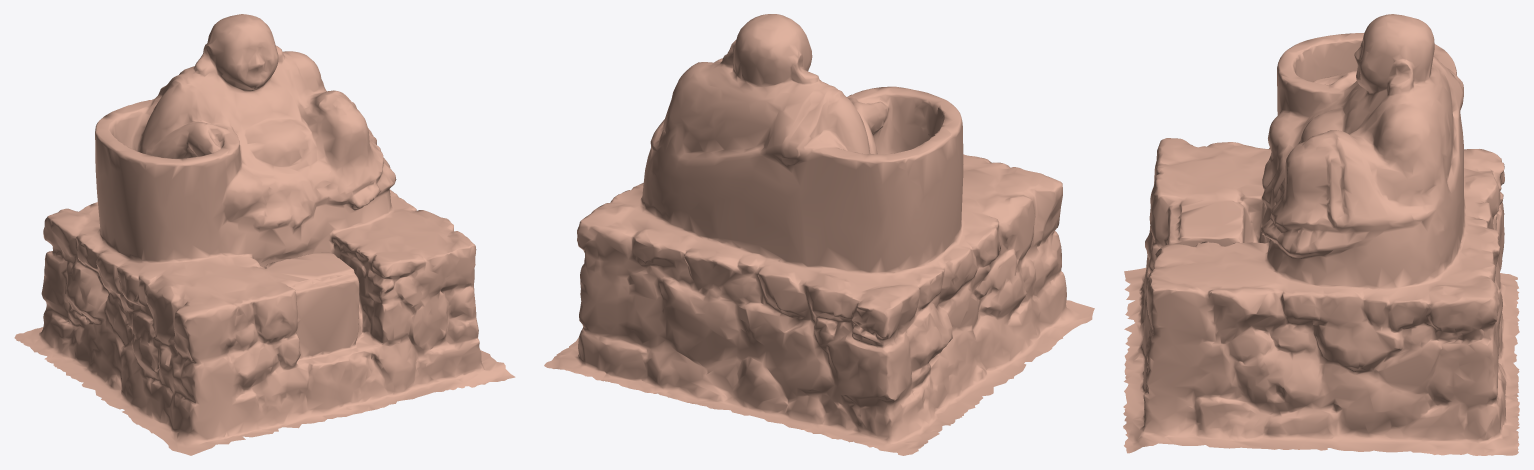
The model's file is wc-hotei-water-basin.glb.
3 views of the same model, side by side, from view 1: azimuth 30°, elevation 25°; view 2: azimuth 150°, elevation 25°; view 3: azimuth 270°, elevation 25° (orthographic). The views are drawn at different scales.
Parts seen in each view (by area): view 1: wc-hotei-water-basin; view 2: wc-hotei-water-basin; view 3: wc-hotei-water-basin.
Part boxes in pixels (x1,y1,x2,y2): wc-hotei-water-basin: [14, 14, 515, 455]; wc-hotei-water-basin: [544, 14, 1094, 455]; wc-hotei-water-basin: [1123, 14, 1519, 455].
Bounding box in the file's own units: 1.12 × 1 × 1.01.
